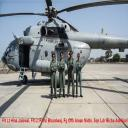helicopter: (3, 9, 127, 88)
